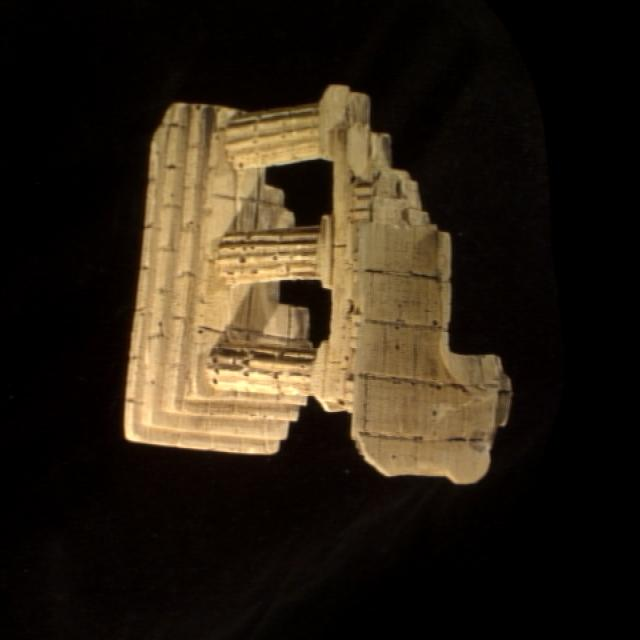Instance-Segmentation: (125, 85, 511, 483)
